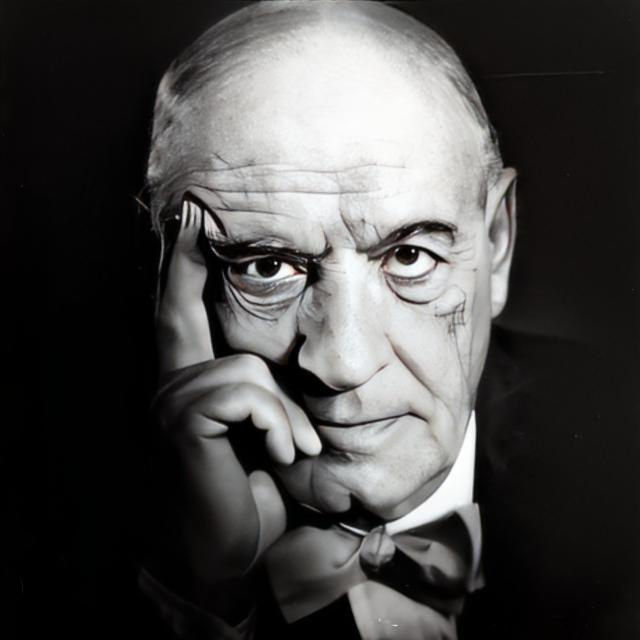anger: (175, 105, 489, 510)
